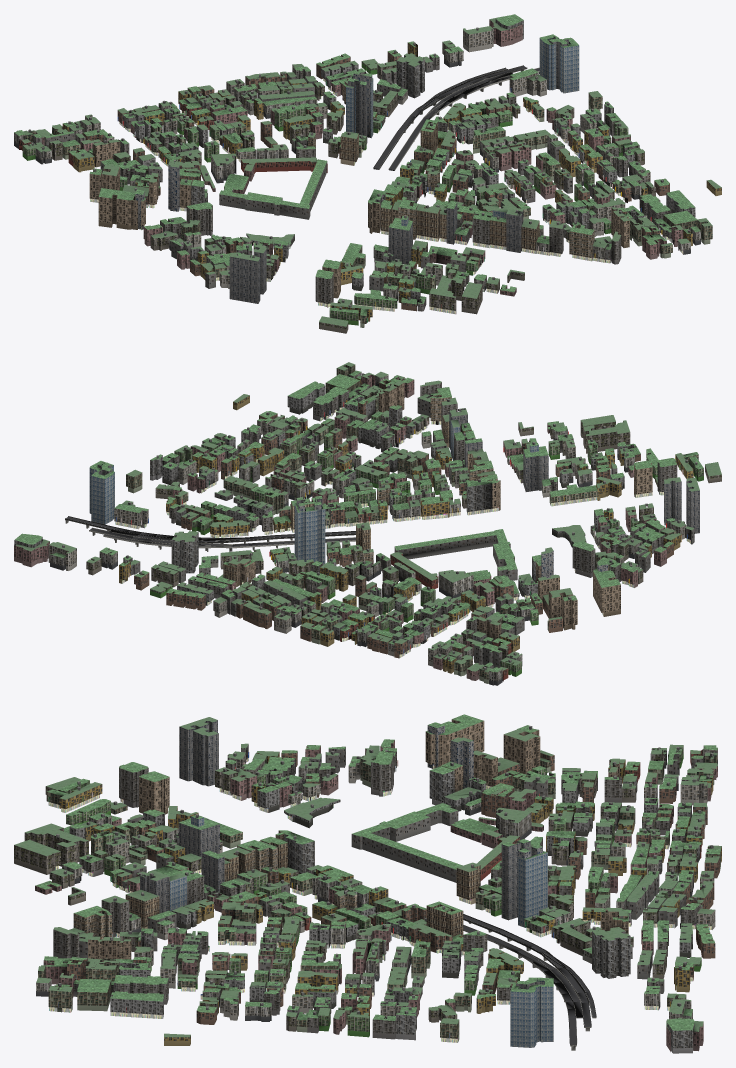
3 renders of one model, top to bottom at view 1: azimuth 30°, elevation 25°; view 2: azimuth 150°, elevation 25°; view 3: azimuth 270°, elevation 25°, orthographic. The views are drawn at different scales.
Parts seen in each view (by area): view 1: buildings_roof_ai_0, buildings_roof_ai_1, buildings_facade_ai_concrete, buildings_facade_ai_pink, buildings_facade_ai_old_concrete_balcony, buildings_facade_ai_yellow_tile_apts, buildings_facade_ai_white_tile_apts, buildings_facade_ai_grey_wash, buildings_facade_ai_stone_office, buildings_facade_ai_cream, buildings_facade_ai_hotel_tiles, buildings_facade_ai_grey (+14 smaller); view 2: buildings_roof_ai_0, buildings_roof_ai_1, buildings_facade_ai_brown_brick_tile, buildings_facade_ai_yellow_tile_apts, buildings_facade_ai_white_tile_apts, buildings_facade_ai_grey, buildings_facade_ai_grey_wash, buildings_facade_ai_concrete, buildings_facade_ai_pink, buildings_facade_ai_blue_green_tile, buildings_facade_ai_green_tile_apts, buildings_facade_ai_old_concrete_balcony (+13 smaller); view 3: buildings_roof_ai_0, buildings_roof_ai_1, buildings_facade_ai_concrete, buildings_facade_ai_blue_green_tile, buildings_facade_ai_grey, buildings_facade_ai_old_concrete_balcony, buildings_facade_ai_pink, buildings_facade_ai_brown_brick_tile, buildings_facade_ai_yellow_tile_apts, buildings_facade_ai_grey_wash, buildings_facade_ai_stone_office, buildings_facade_ai_white_tile_apts (+13 smaller).
Part boxes in pixels (x1,y1,x2,y2): buildings_roof_ai_0: [14, 14, 700, 315]; buildings_roof_ai_1: [22, 17, 721, 326]; buildings_facade_ai_concrete: [87, 55, 672, 311]; buildings_facade_ai_pink: [35, 19, 683, 296]; buildings_facade_ai_old_concrete_balcony: [49, 42, 655, 333]; buildings_facade_ai_yellow_tile_apts: [62, 42, 721, 321]; buildings_facade_ai_white_tile_apts: [14, 48, 700, 300]; buildings_facade_ai_grey_wash: [33, 61, 655, 291]; buildings_facade_ai_stone_office: [229, 36, 568, 303]; buildings_facade_ai_cream: [80, 29, 650, 288]; buildings_facade_ai_hotel_tiles: [89, 79, 629, 298]; buildings_facade_ai_grey: [132, 63, 695, 305]; buildings_roof_ai_0: [15, 370, 703, 672]; buildings_roof_ai_1: [16, 362, 721, 671]; buildings_facade_ai_brown_brick_tile: [134, 380, 673, 658]; buildings_facade_ai_yellow_tile_apts: [119, 374, 693, 673]; buildings_facade_ai_white_tile_apts: [50, 372, 645, 685]; buildings_facade_ai_grey: [162, 382, 648, 643]; buildings_facade_ai_grey_wash: [131, 386, 694, 668]; buildings_facade_ai_concrete: [123, 382, 677, 644]; buildings_facade_ai_pink: [14, 374, 666, 680]; buildings_facade_ai_blue_green_tile: [126, 365, 698, 683]; buildings_facade_ai_green_tile_apts: [150, 414, 703, 676]; buildings_facade_ai_old_concrete_balcony: [86, 415, 721, 659]; buildings_roof_ai_0: [35, 714, 720, 1030]; buildings_roof_ai_1: [14, 717, 721, 1037]; buildings_facade_ai_concrete: [53, 748, 700, 1039]; buildings_facade_ai_blue_green_tile: [38, 755, 720, 1041]; buildings_facade_ai_grey: [69, 755, 699, 1030]; buildings_facade_ai_old_concrete_balcony: [14, 749, 686, 1031]; buildings_facade_ai_pink: [35, 740, 717, 1051]; buildings_facade_ai_brown_brick_tile: [67, 751, 719, 1024]; buildings_facade_ai_yellow_tile_apts: [55, 752, 721, 1045]; buildings_facade_ai_grey_wash: [79, 744, 703, 999]; buildings_facade_ai_stone_office: [140, 720, 543, 989]; buildings_facade_ai_white_tile_apts: [36, 746, 717, 1021].
Size of the model in its own units: 745 by 88.39 by 736.
27 materials, 24 textured.
